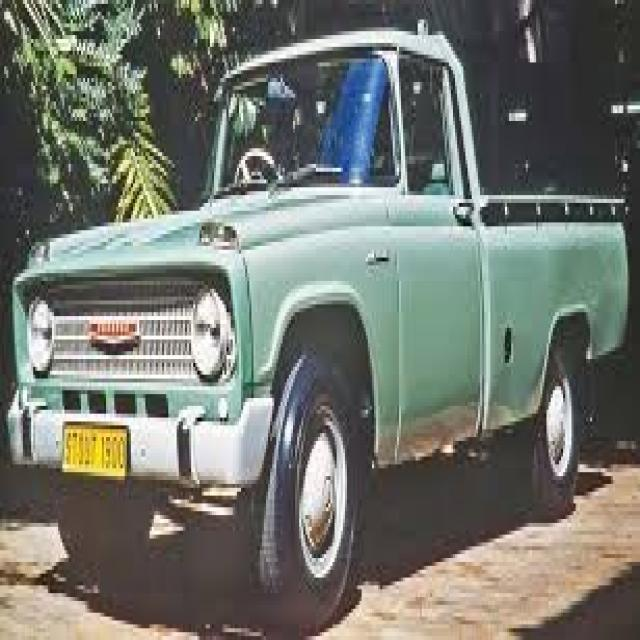Pickup Trucks: (8, 31, 630, 624)
